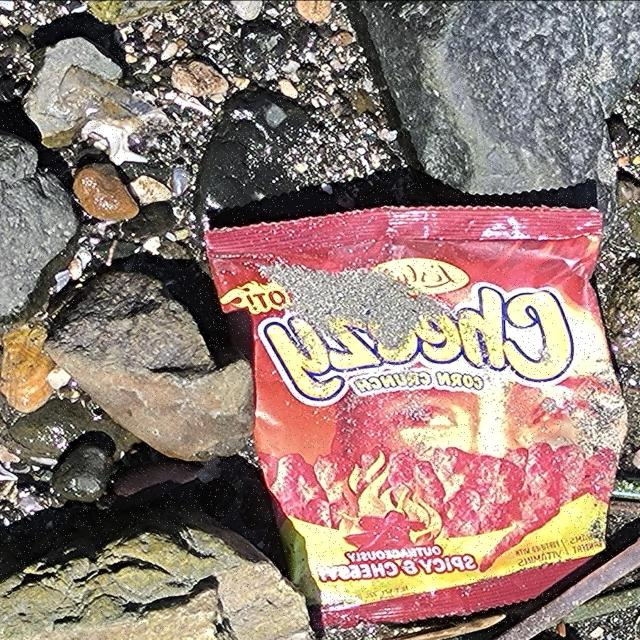plastic_waste: (203, 203, 632, 635)
